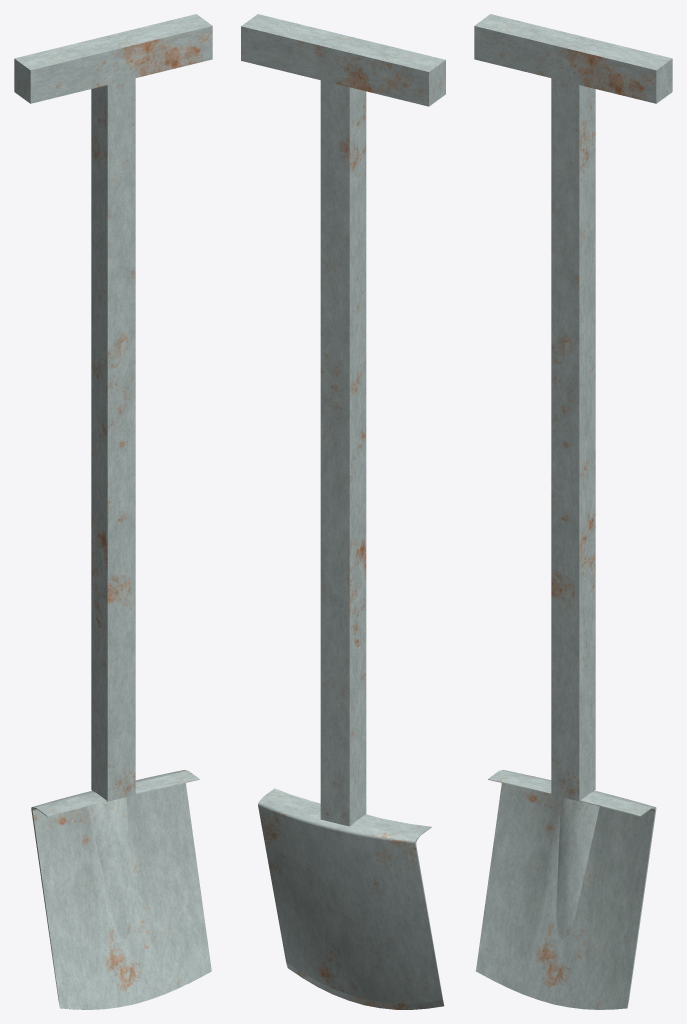
Rendered from SHOVEL.fbx.
3 views of the same model, side by side, from view 1: azimuth 30°, elevation 25°; view 2: azimuth 150°, elevation 25°; view 3: azimuth 330°, elevation 25° (orthographic). The views are drawn at different scales.
Parts seen in each view (by area): view 1: SHOVEL, SHOVEL_HANDAL; view 2: SHOVEL, SHOVEL_HANDAL; view 3: SHOVEL, SHOVEL_HANDAL.
Part boxes in pixels (box(x1,y1,x2,y2)): SHOVEL: box(31, 78, 211, 1009); SHOVEL_HANDAL: box(14, 14, 212, 103); SHOVEL: box(258, 80, 444, 1009); SHOVEL_HANDAL: box(241, 14, 445, 106); SHOVEL: box(476, 78, 656, 1009); SHOVEL_HANDAL: box(474, 14, 672, 103).
Size of the model in its own units: 28.04 by 139 by 8.74.
1 material, 1 textured.
